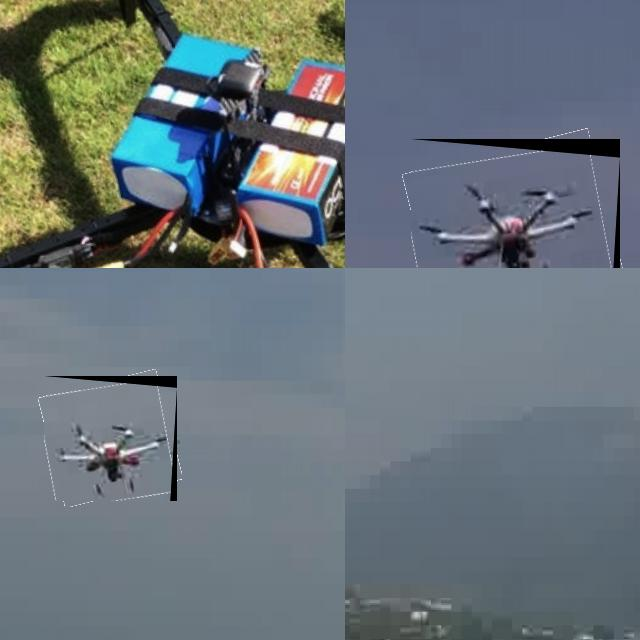drone: (0, 0, 345, 268), (411, 139, 620, 268), (44, 376, 177, 501)
